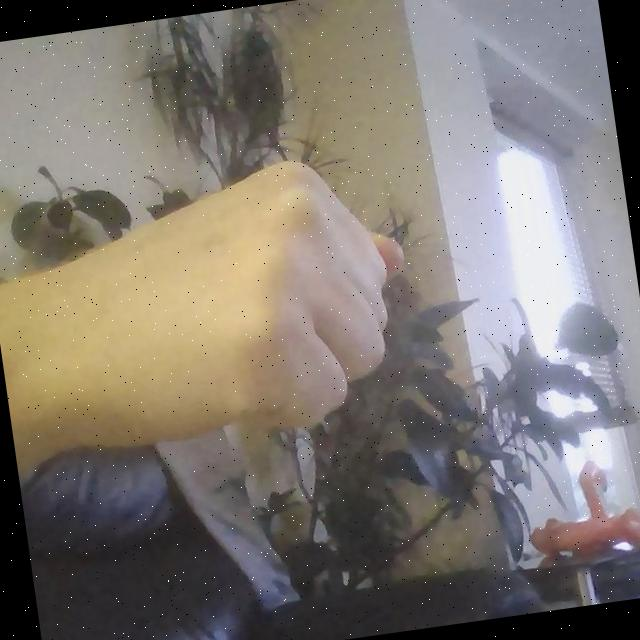rock: (64, 148, 426, 461)
